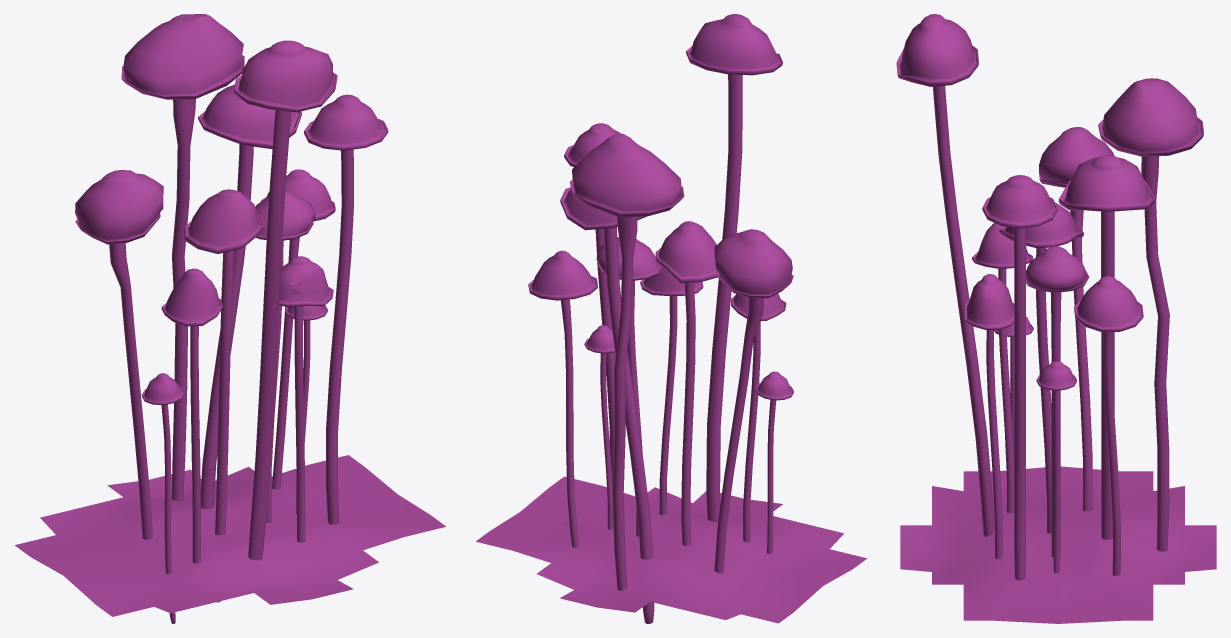
Rendered from shroomgp2.fbx.
The picture shows the model from 3 angles, left to right: view 1: azimuth 30°, elevation 25°; view 2: azimuth 150°, elevation 25°; view 3: azimuth 270°, elevation 25°; orthographic projection. The views are drawn at different scales.
Visible parts, largest first — view 1: shroom4; view 2: shroom4; view 3: shroom4.
Part boxes in pixels (x1=…): shroom4: x1=14, y1=14, x2=446, y2=623; shroom4: x1=476, y1=14, x2=867, y2=623; shroom4: x1=896, y1=14, x2=1216, y2=623.
Bounding box in the file's own units: 0.8106 × 1.4 × 0.6948.
